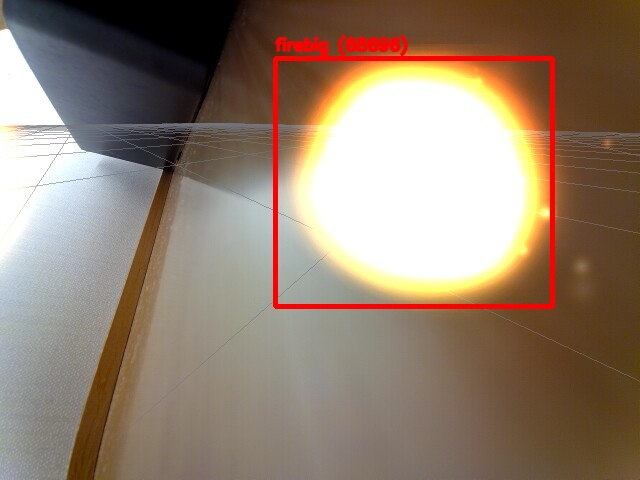firebig: (275, 58, 552, 306)
